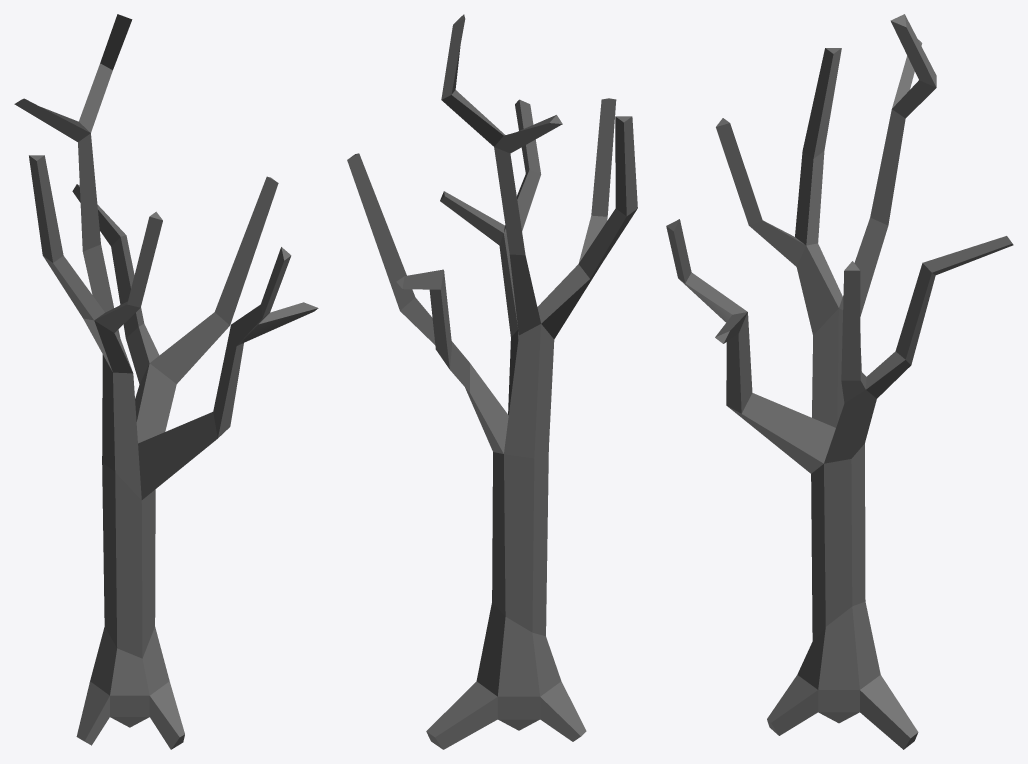
Rendered from SM_Gen_Env_Tree_Dead_02.glb.
The picture shows the model from 3 angles, left to right: view 1: azimuth 30°, elevation 25°; view 2: azimuth 150°, elevation 25°; view 3: azimuth 270°, elevation 25°; orthographic projection. The views are drawn at different scales.
Parts seen in each view (by area): view 1: SM_Gen_Env_Tree_Dead_02; view 2: SM_Gen_Env_Tree_Dead_02; view 3: SM_Gen_Env_Tree_Dead_02.
Part boxes in pixels (x1,y1,x2,y2): SM_Gen_Env_Tree_Dead_02: (14,14,318,749); SM_Gen_Env_Tree_Dead_02: (347,14,637,749); SM_Gen_Env_Tree_Dead_02: (666,14,1013,749).
Bounding box in the file's own units: 3.77 × 9.84 × 4.31.
1 material, 1 textured.
